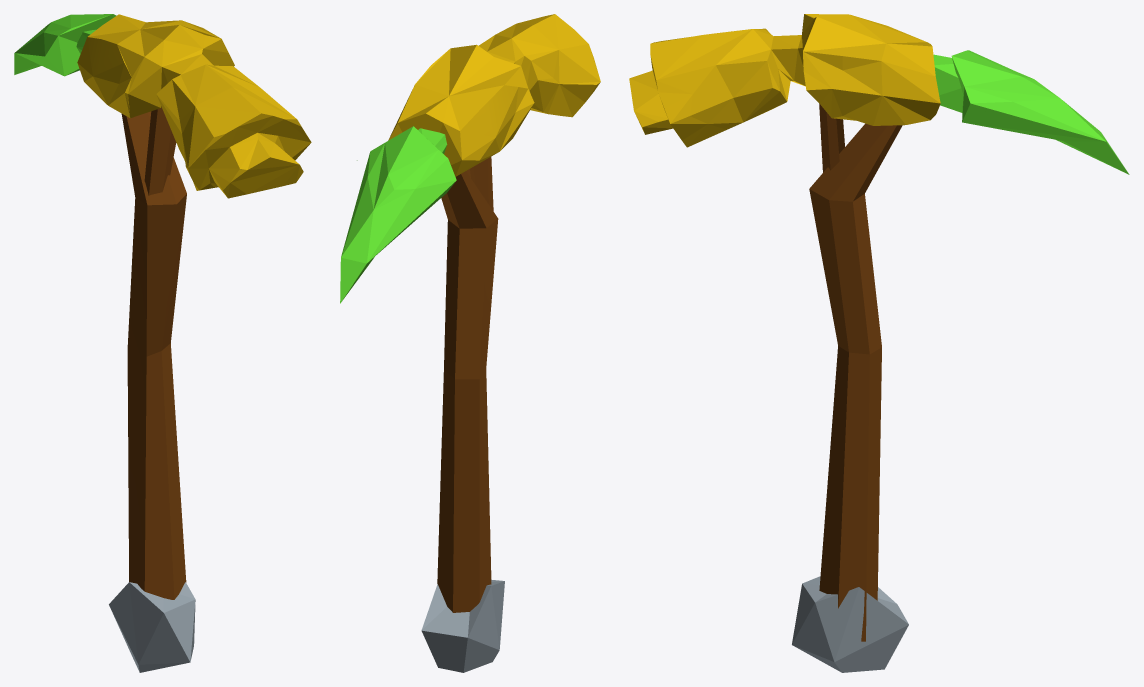
The model's file is emeraldPick.fbx.
3 views of the same model, side by side, from view 1: azimuth 30°, elevation 25°; view 2: azimuth 150°, elevation 25°; view 3: azimuth 270°, elevation 25° (orthographic). The views are drawn at different scales.
Parts seen in each view (by area): view 1: EmeraldPick; view 2: EmeraldPick; view 3: EmeraldPick.
Boxes of the visible parts, left/top/right/bottom form: EmeraldPick: left=14, top=14, right=311, bottom=672; EmeraldPick: left=340, top=14, right=600, bottom=672; EmeraldPick: left=629, top=14, right=1129, bottom=672.
Bounding box in the file's own units: 26.96 × 138 × 96.19.
